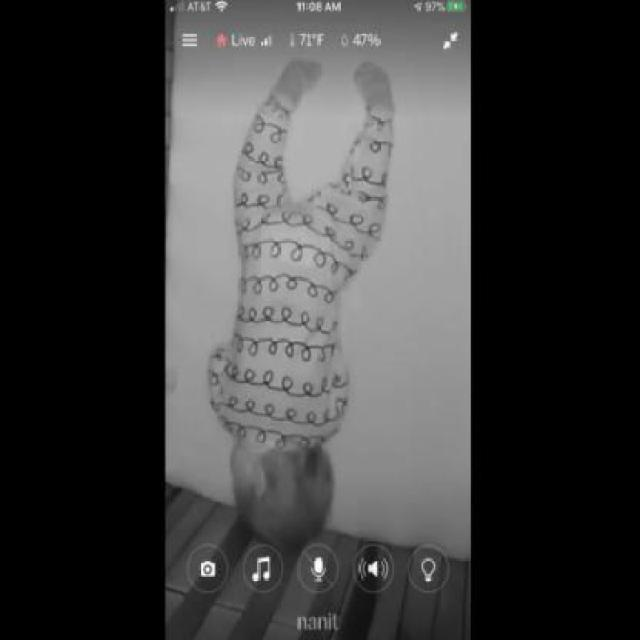baby: (201, 56, 394, 558)
